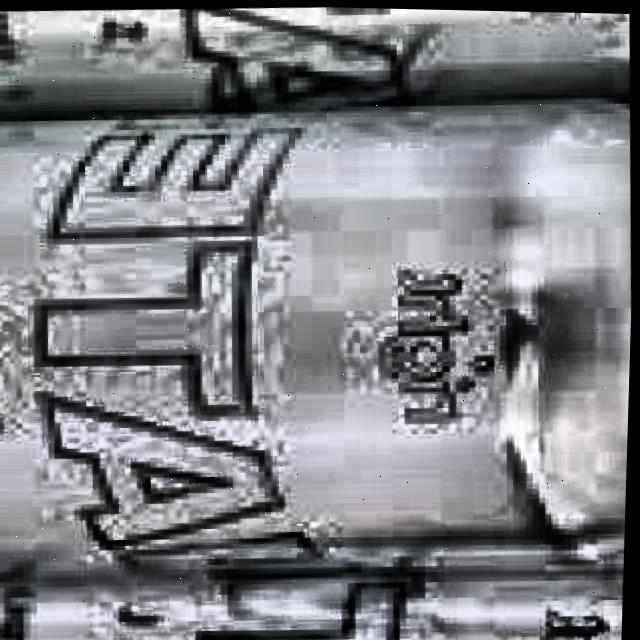metal: (0, 5, 633, 640)
